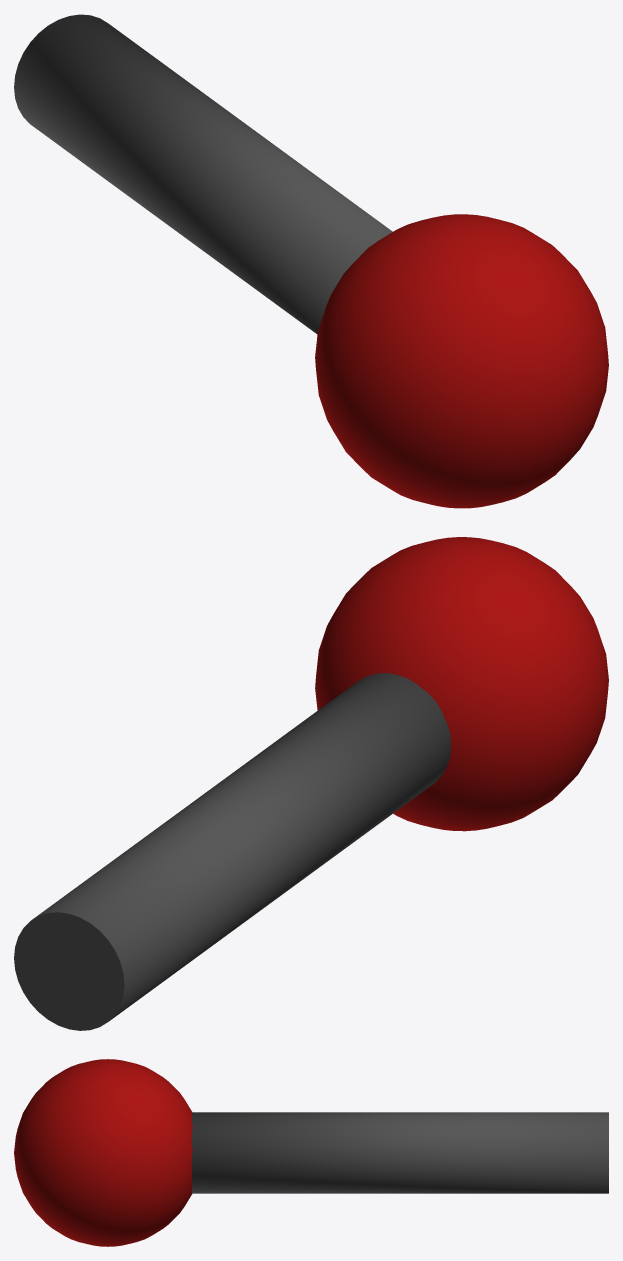
The model's file is Lever Handle.fbx.
3 renders of one model, top to bottom at view 1: azimuth 30°, elevation 25°; view 2: azimuth 150°, elevation 25°; view 3: azimuth 270°, elevation 25°, orthographic. The views are drawn at different scales.
Visible parts, largest first — view 1: Lever Handle; view 2: Lever Handle; view 3: Lever Handle.
Boxes of the visible parts, x1,y1,x2,y2 form: Lever Handle: (14, 14, 608, 508); Lever Handle: (14, 537, 608, 1030); Lever Handle: (14, 1059, 608, 1246).
Size of the model in its own units: 6 by 6 by 19.
